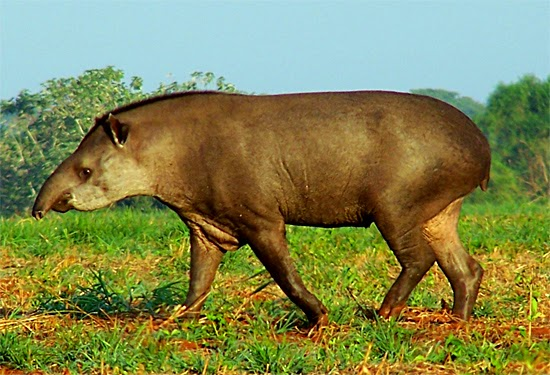Anta: (33, 86, 496, 324)
